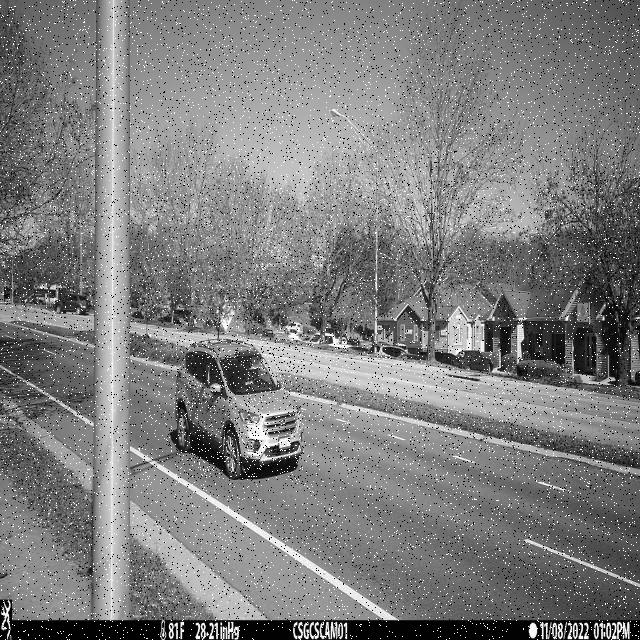SUV: (176, 340, 303, 480)
